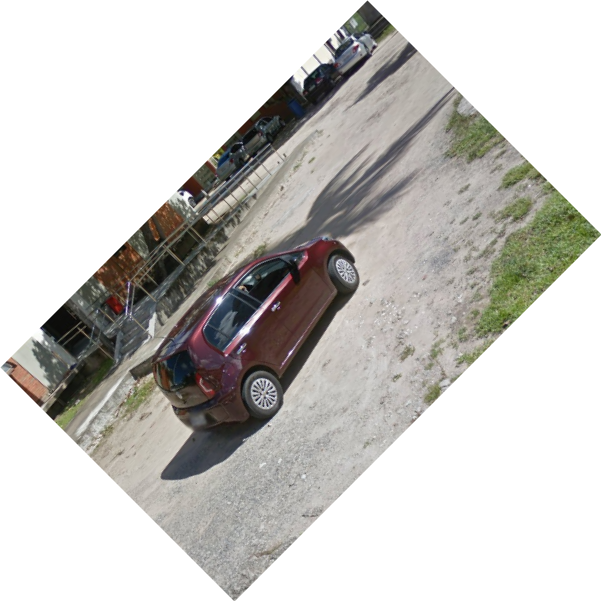car: (149, 233, 365, 441)
